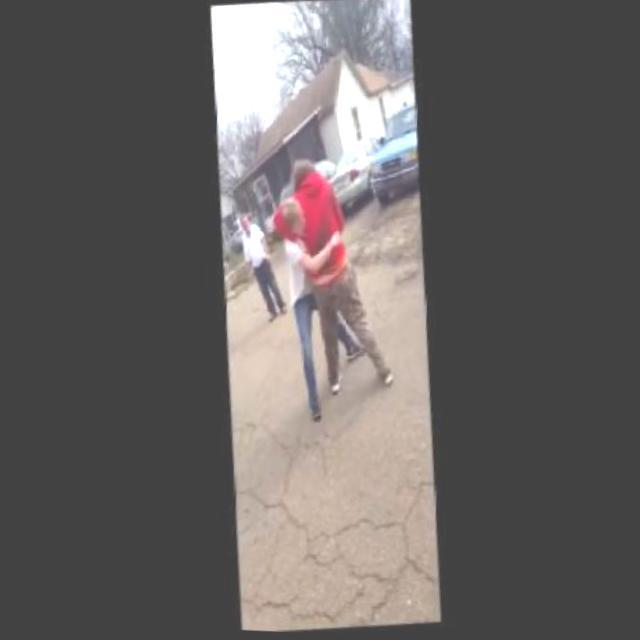fight: (251, 156, 411, 436)
